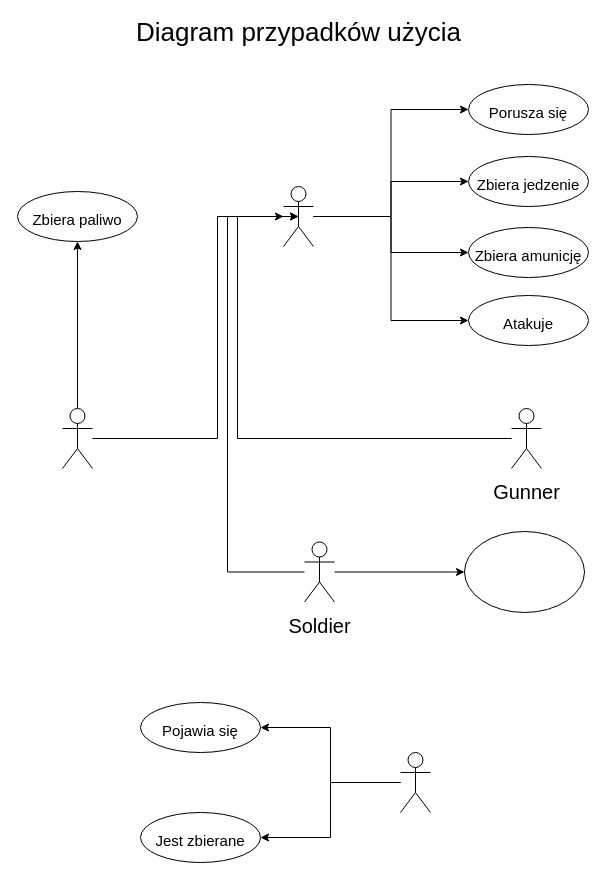
Some shapes in this 606 by 880 pixel diagram are drawn without their labels. The shapes that lost their labels are listed below. From the top down, each one's box as (x1, y1, x2, y2) in pixels, then its label:
(282, 186, 314, 246): MilitaryUnit (abstract)
(62, 408, 92, 468): Tank
(464, 530, 584, 612): Wchodzi do budynku
(400, 752, 430, 812): Drop
